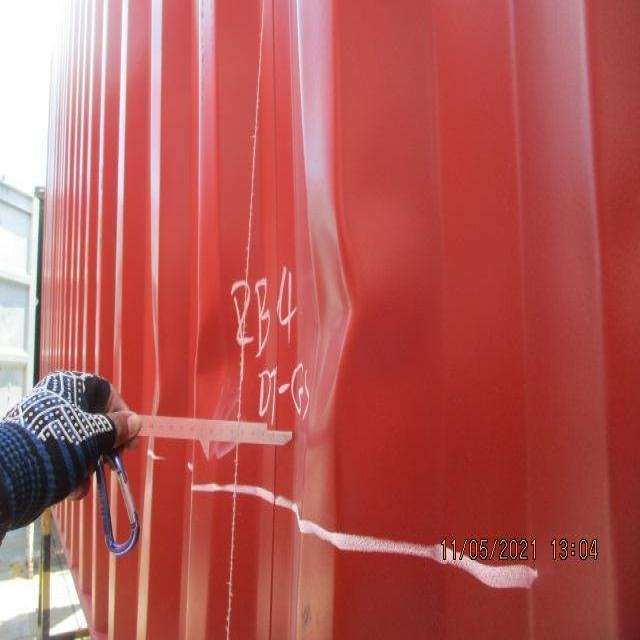Dent: (114, 183, 527, 545)
